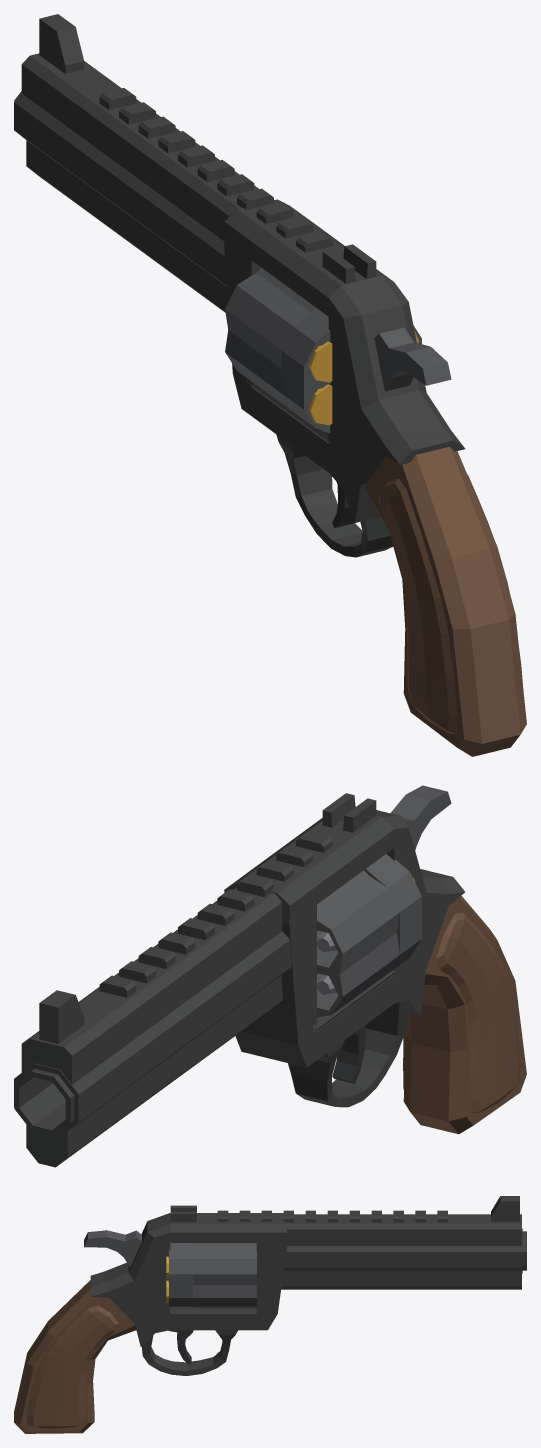
The model's file is revolver.glb.
3 renders of one model, top to bottom at view 1: azimuth 30°, elevation 25°; view 2: azimuth 150°, elevation 25°; view 3: azimuth 270°, elevation 25°, orthographic. The views are drawn at different scales.
Parts seen in each view (by area): view 1: frame, cylinder, hammer; view 2: frame, cylinder, hammer, crane; view 3: frame, cylinder, hammer.
Part boxes in pixels (<box>): frame: <box>14,14,526,756</box>; cylinder: <box>225,267,421,433</box>; hammer: <box>374,327,451,391</box>; frame: <box>14,793,526,1167</box>; cylinder: <box>316,854,421,1017</box>; hammer: <box>390,785,451,850</box>; crane: <box>312,970,395,1032</box>; frame: <box>14,1196,526,1433</box>; cylinder: <box>169,1243,256,1308</box>; hammer: <box>84,1230,141,1266</box>.
Size of the model in its own units: 0.0444 by 0.1484 by 0.2997.
